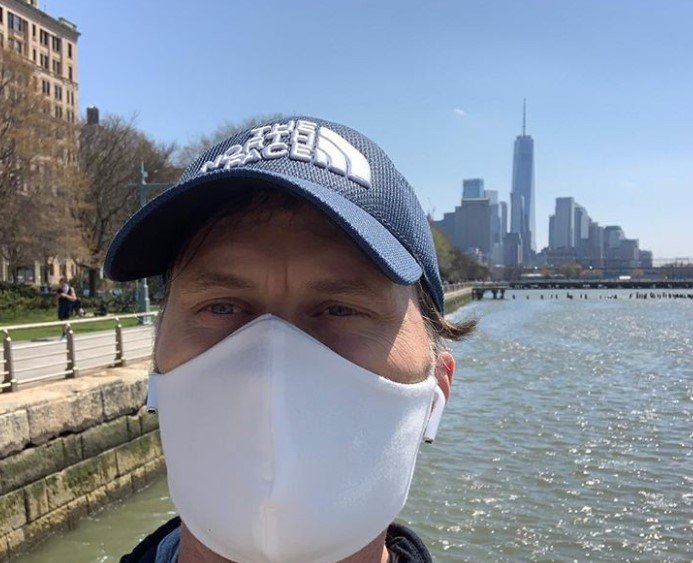face_with_mask: (104, 112, 460, 557)
